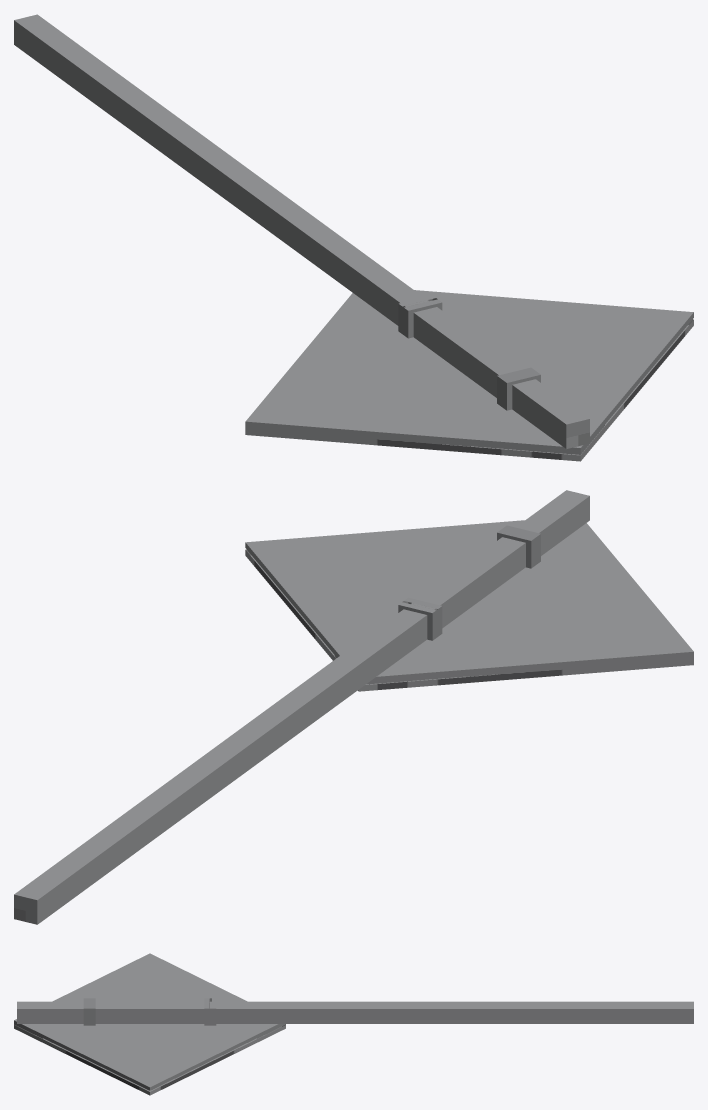
The picture shows the model from 3 angles, top to bottom: view 1: azimuth 30°, elevation 25°; view 2: azimuth 150°, elevation 25°; view 3: azimuth 270°, elevation 25°; orthographic projection. The views are drawn at different scales.
Bounding box in the file's own units: 1.05 × 0.092 × 2.25.
